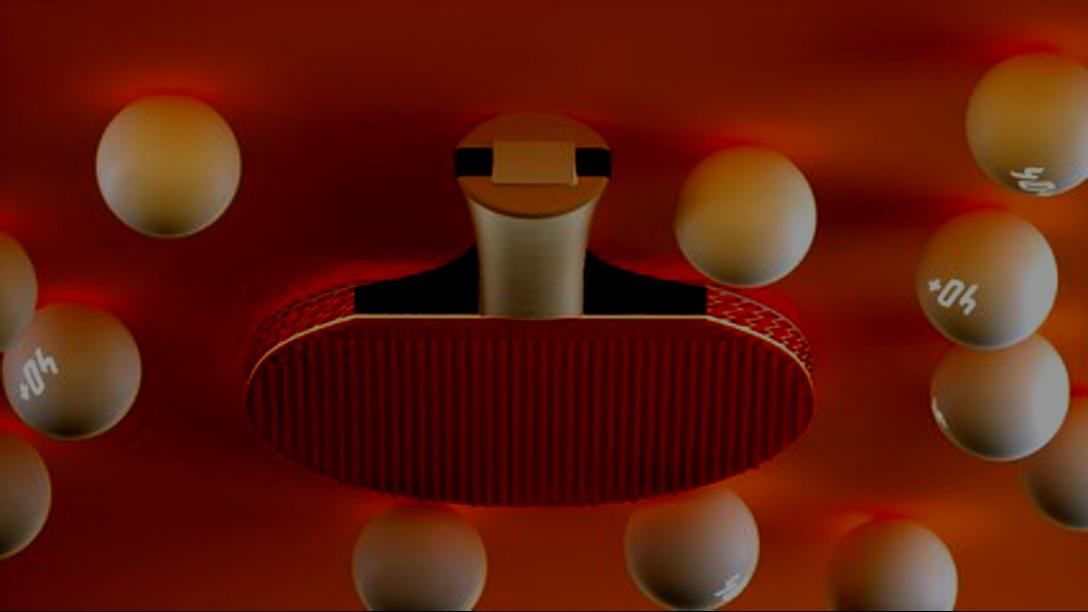Table-Tennis-Ball: (98, 96, 241, 241), (914, 212, 1058, 352), (676, 149, 816, 287), (0, 308, 140, 442), (929, 335, 1071, 461), (965, 55, 1087, 195), (626, 486, 760, 612), (355, 506, 486, 612), (827, 520, 957, 612), (1026, 398, 1088, 532), (0, 433, 50, 561), (1, 232, 35, 356)
